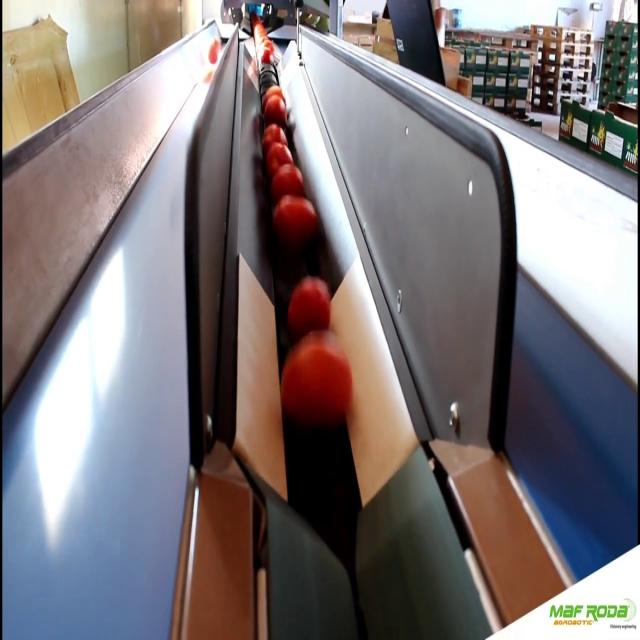Tomato: (282, 341, 356, 422), (294, 278, 330, 334), (272, 197, 317, 239), (272, 165, 307, 196), (261, 123, 286, 150), (265, 97, 288, 121), (208, 34, 221, 71), (267, 150, 292, 168), (258, 46, 276, 70), (266, 82, 283, 98)
